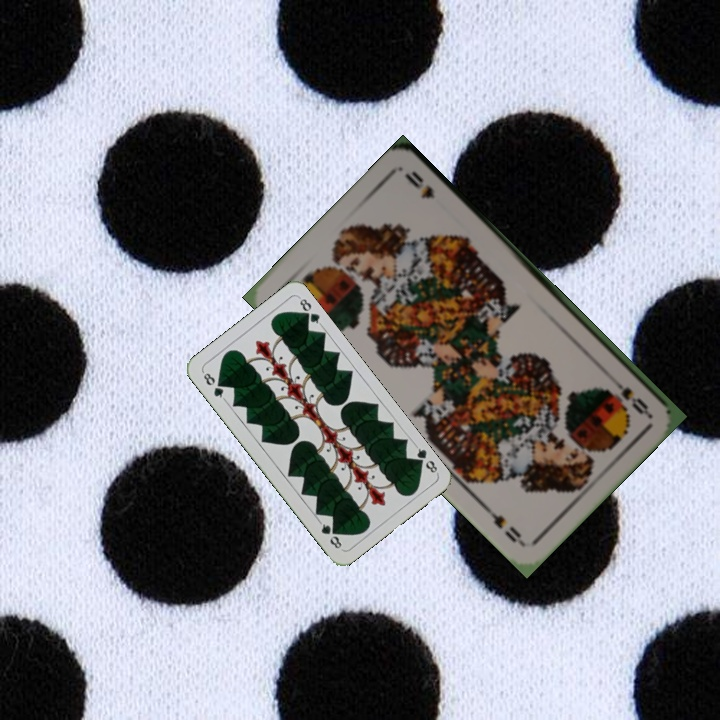G8: (410, 441, 440, 476), (199, 368, 228, 402)
SO: (605, 372, 653, 419)
